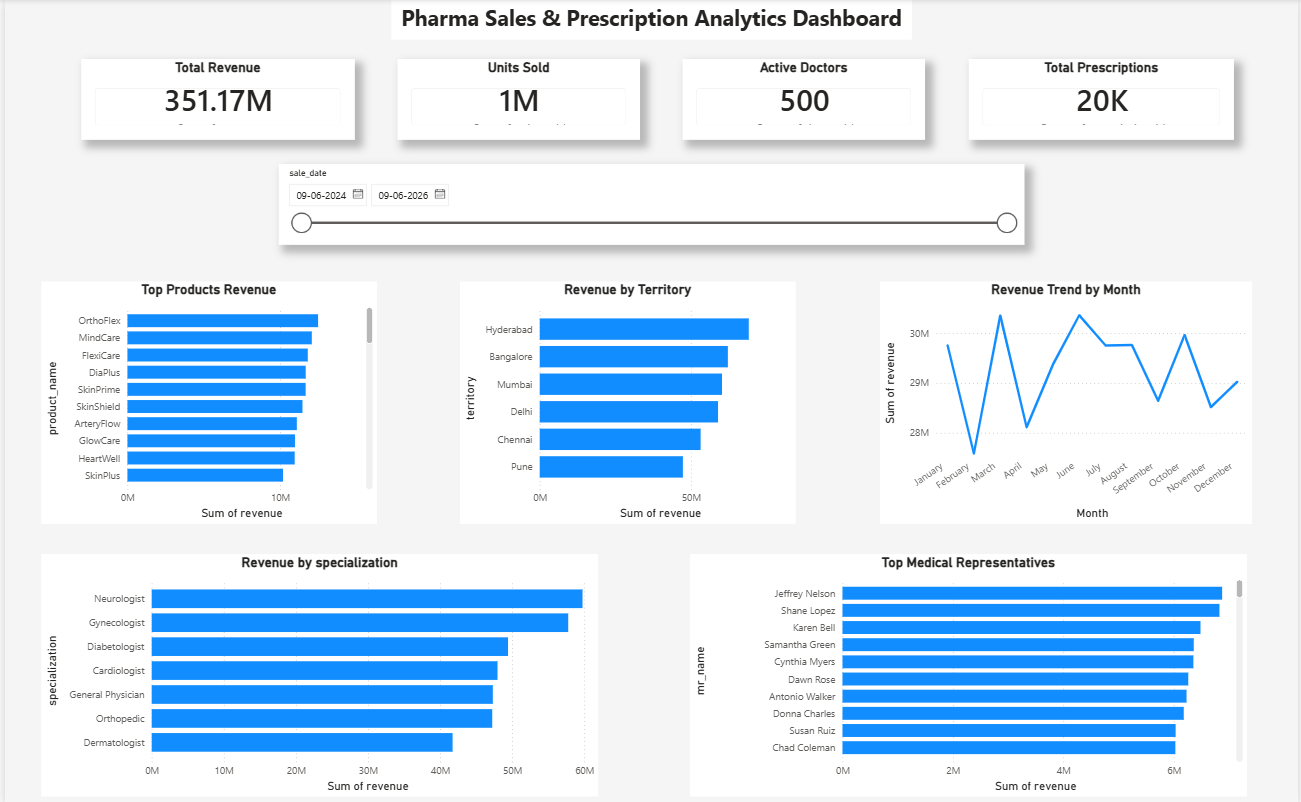

What the dashboard file says about the page in this screenshot:
{"tool":"powerbi","page":{"name":"Page 1","canvas":[1600,1000],"ordinal":0},"visuals":[{"type":"cardVisual","title":"Total Revenue","fields":{"Data":["Sum(sales.revenue)"]},"box":[94,74,338,100],"z":0},{"type":"cardVisual","title":"Total Prescriptions","fields":{"Data":["CountNonNull(prescriptions.prescription_id)"]},"box":[1192,74,328,100],"z":1000},{"type":"cardVisual","title":"Units Sold","fields":{"Data":["Sum(sales.units_sold)"]},"box":[485.3,74,300,100],"z":2000},{"type":"cardVisual","title":"Active Doctors","fields":{"Data":["CountNonNull(doctors.doctor_id)"]},"box":[838.7,74,300,100],"z":3000},{"type":"slicer","fields":{"Values":["sales.sale_date"]},"box":[339,204,922,100],"z":4000},{"type":"clusteredBarChart","title":"Top Products Revenue","fields":{"Category":["products.product_name"],"Y":["Sum(sales.revenue)"]},"box":[45,350,415,300],"z":5000},{"type":"clusteredBarChart","title":"Revenue by Territory","fields":{"Category":["sales.territory"],"Y":["Sum(sales.revenue)"]},"box":[563.3,350,415,300],"z":6000},{"type":"lineChart","title":"Revenue Trend by Month","fields":{"Y":["Sum(sales.revenue)"],"Category":["sales.sale_date.Variation.Date Hierarchy.Year","sales.sale_date.Variation.Date Hierarchy.Quarter","sales.sale_date.Variation.Date Hierarchy.Month","sales.sale_date.Variation.Date Hierarchy.Day"]},"box":[1081.7,350,460,300],"z":7000},{"type":"clusteredBarChart","title":"Revenue by specialization","fields":{"Category":["doctors.specialization"],"Y":["Sum(sales.revenue)"]},"box":[45.3,686,688.9,300],"z":8000},{"type":"clusteredBarChart","title":"Top Medical Representatives","fields":{"Category":["medical_reps.mr_name"],"Y":["Sum(sales.revenue)"]},"box":[847.6,686,688.9,300],"z":9000},{"type":"textbox","box":[478,0,644,50],"z":10000}]}

Visuals, with their boxes in screenshot pixels (x1, y1, x2, y2), scaled from the page's 1600x1000 canvas onto the 1301x802 screenshot:
"Total Revenue" cardVisual: <box>76,59,351,140</box>
"Total Prescriptions" cardVisual: <box>969,59,1236,140</box>
"Units Sold" cardVisual: <box>395,59,639,140</box>
"Active Doctors" cardVisual: <box>682,59,926,140</box>
slicer - sales.sale_date: <box>276,164,1025,244</box>
"Top Products Revenue" clusteredBarChart: <box>37,281,374,521</box>
"Revenue by Territory" clusteredBarChart: <box>458,281,795,521</box>
"Revenue Trend by Month" lineChart: <box>880,281,1254,521</box>
"Revenue by specialization" clusteredBarChart: <box>37,550,597,791</box>
"Top Medical Representatives" clusteredBarChart: <box>689,550,1249,791</box>
textbox: <box>389,0,912,40</box>
